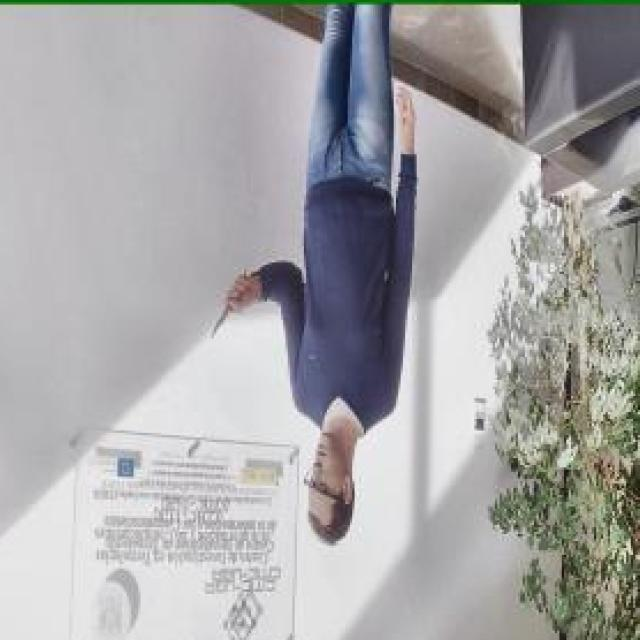knife: (208, 266, 249, 345)
